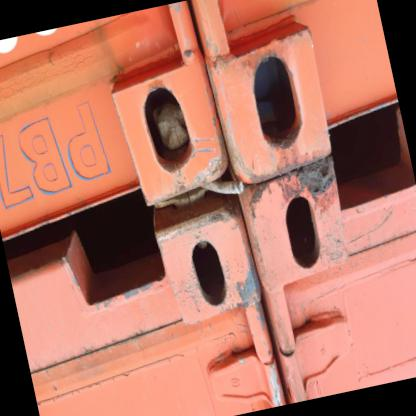CornerCasting: (202, 10, 338, 187), (100, 42, 234, 214), (149, 195, 264, 338), (238, 168, 362, 298)
